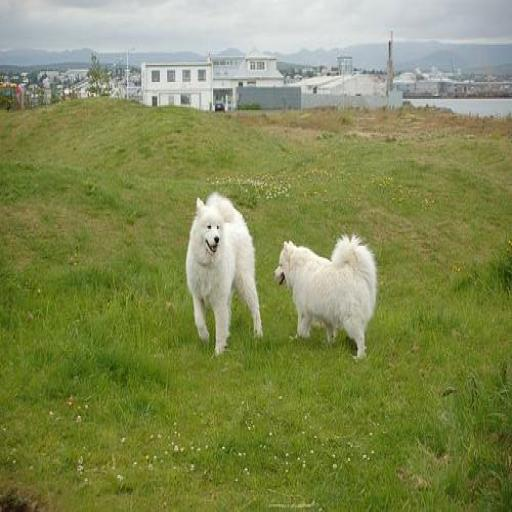dog_face: (193, 191, 230, 261)
